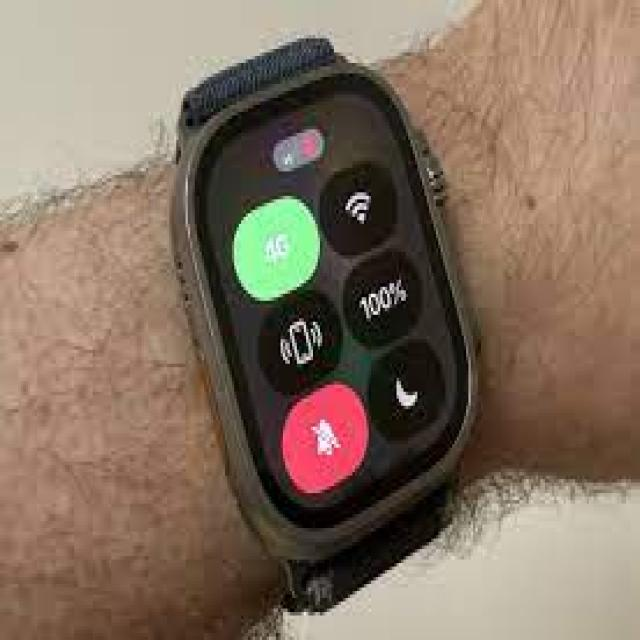objects: (169, 33, 485, 566)
